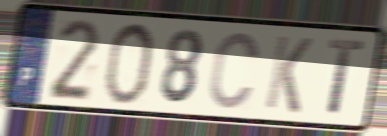2: (44, 17, 102, 103)
8: (160, 27, 205, 107)
C: (206, 29, 262, 113)
K: (262, 32, 315, 117)
O: (101, 20, 156, 107)
T: (326, 36, 367, 119)
